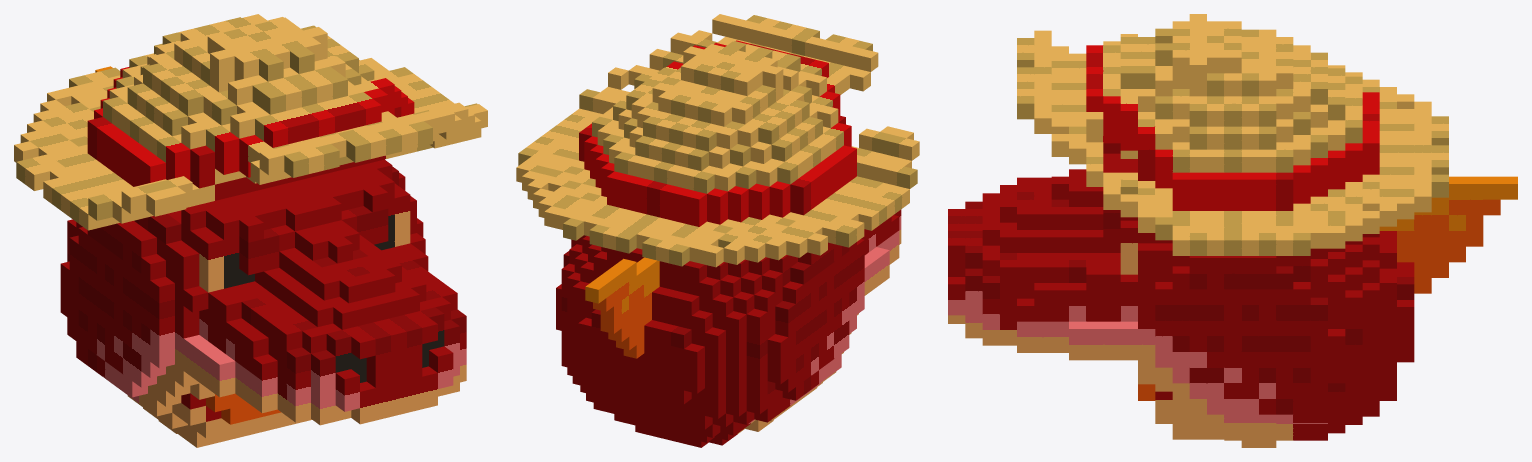
Rendered from straw hat_vr goggles.gltf.
3 views of the same model, side by side, from view 1: azimuth 30°, elevation 25°; view 2: azimuth 150°, elevation 25°; view 3: azimuth 270°, elevation 25° (orthographic). The views are drawn at different scales.
Visible parts, largest first — view 1: C50_H_StrawH_RedG_RBSpec_SkyD_VRGg_LazerL-Mesh; view 2: C50_H_StrawH_RedG_RBSpec_SkyD_VRGg_LazerL-Mesh; view 3: C50_H_StrawH_RedG_RBSpec_SkyD_VRGg_LazerL-Mesh.
Boxes of the visible parts, x1,y1,x2,y2 form: C50_H_StrawH_RedG_RBSpec_SkyD_VRGg_LazerL-Mesh: [14, 14, 487, 447]; C50_H_StrawH_RedG_RBSpec_SkyD_VRGg_LazerL-Mesh: [516, 14, 919, 447]; C50_H_StrawH_RedG_RBSpec_SkyD_VRGg_LazerL-Mesh: [948, 14, 1517, 447].
Bounding box in the file's own units: 25 × 24 × 33.
1 material, 1 textured.
